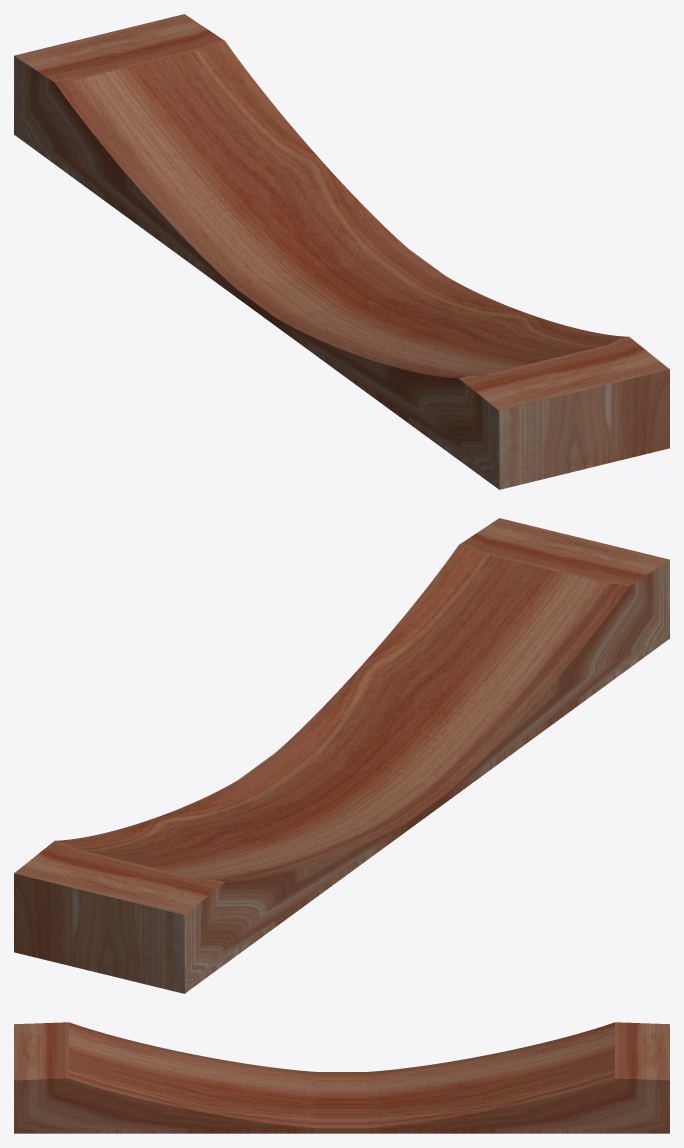
File: Halfpipe.fbx
3 views of the same model, one above another, from view 1: azimuth 30°, elevation 25°; view 2: azimuth 150°, elevation 25°; view 3: azimuth 270°, elevation 25° (orthographic). The views are drawn at different scales.
Parts seen in each view (by area): view 1: Cube; view 2: Cube; view 3: Cube.
Part boxes in pixels (<box>): Cube: <box>14,14,669,489</box>; Cube: <box>14,518,669,993</box>; Cube: <box>14,1022,669,1133</box>.
Bounding box in the file's own units: 485 × 222 × 2391.
